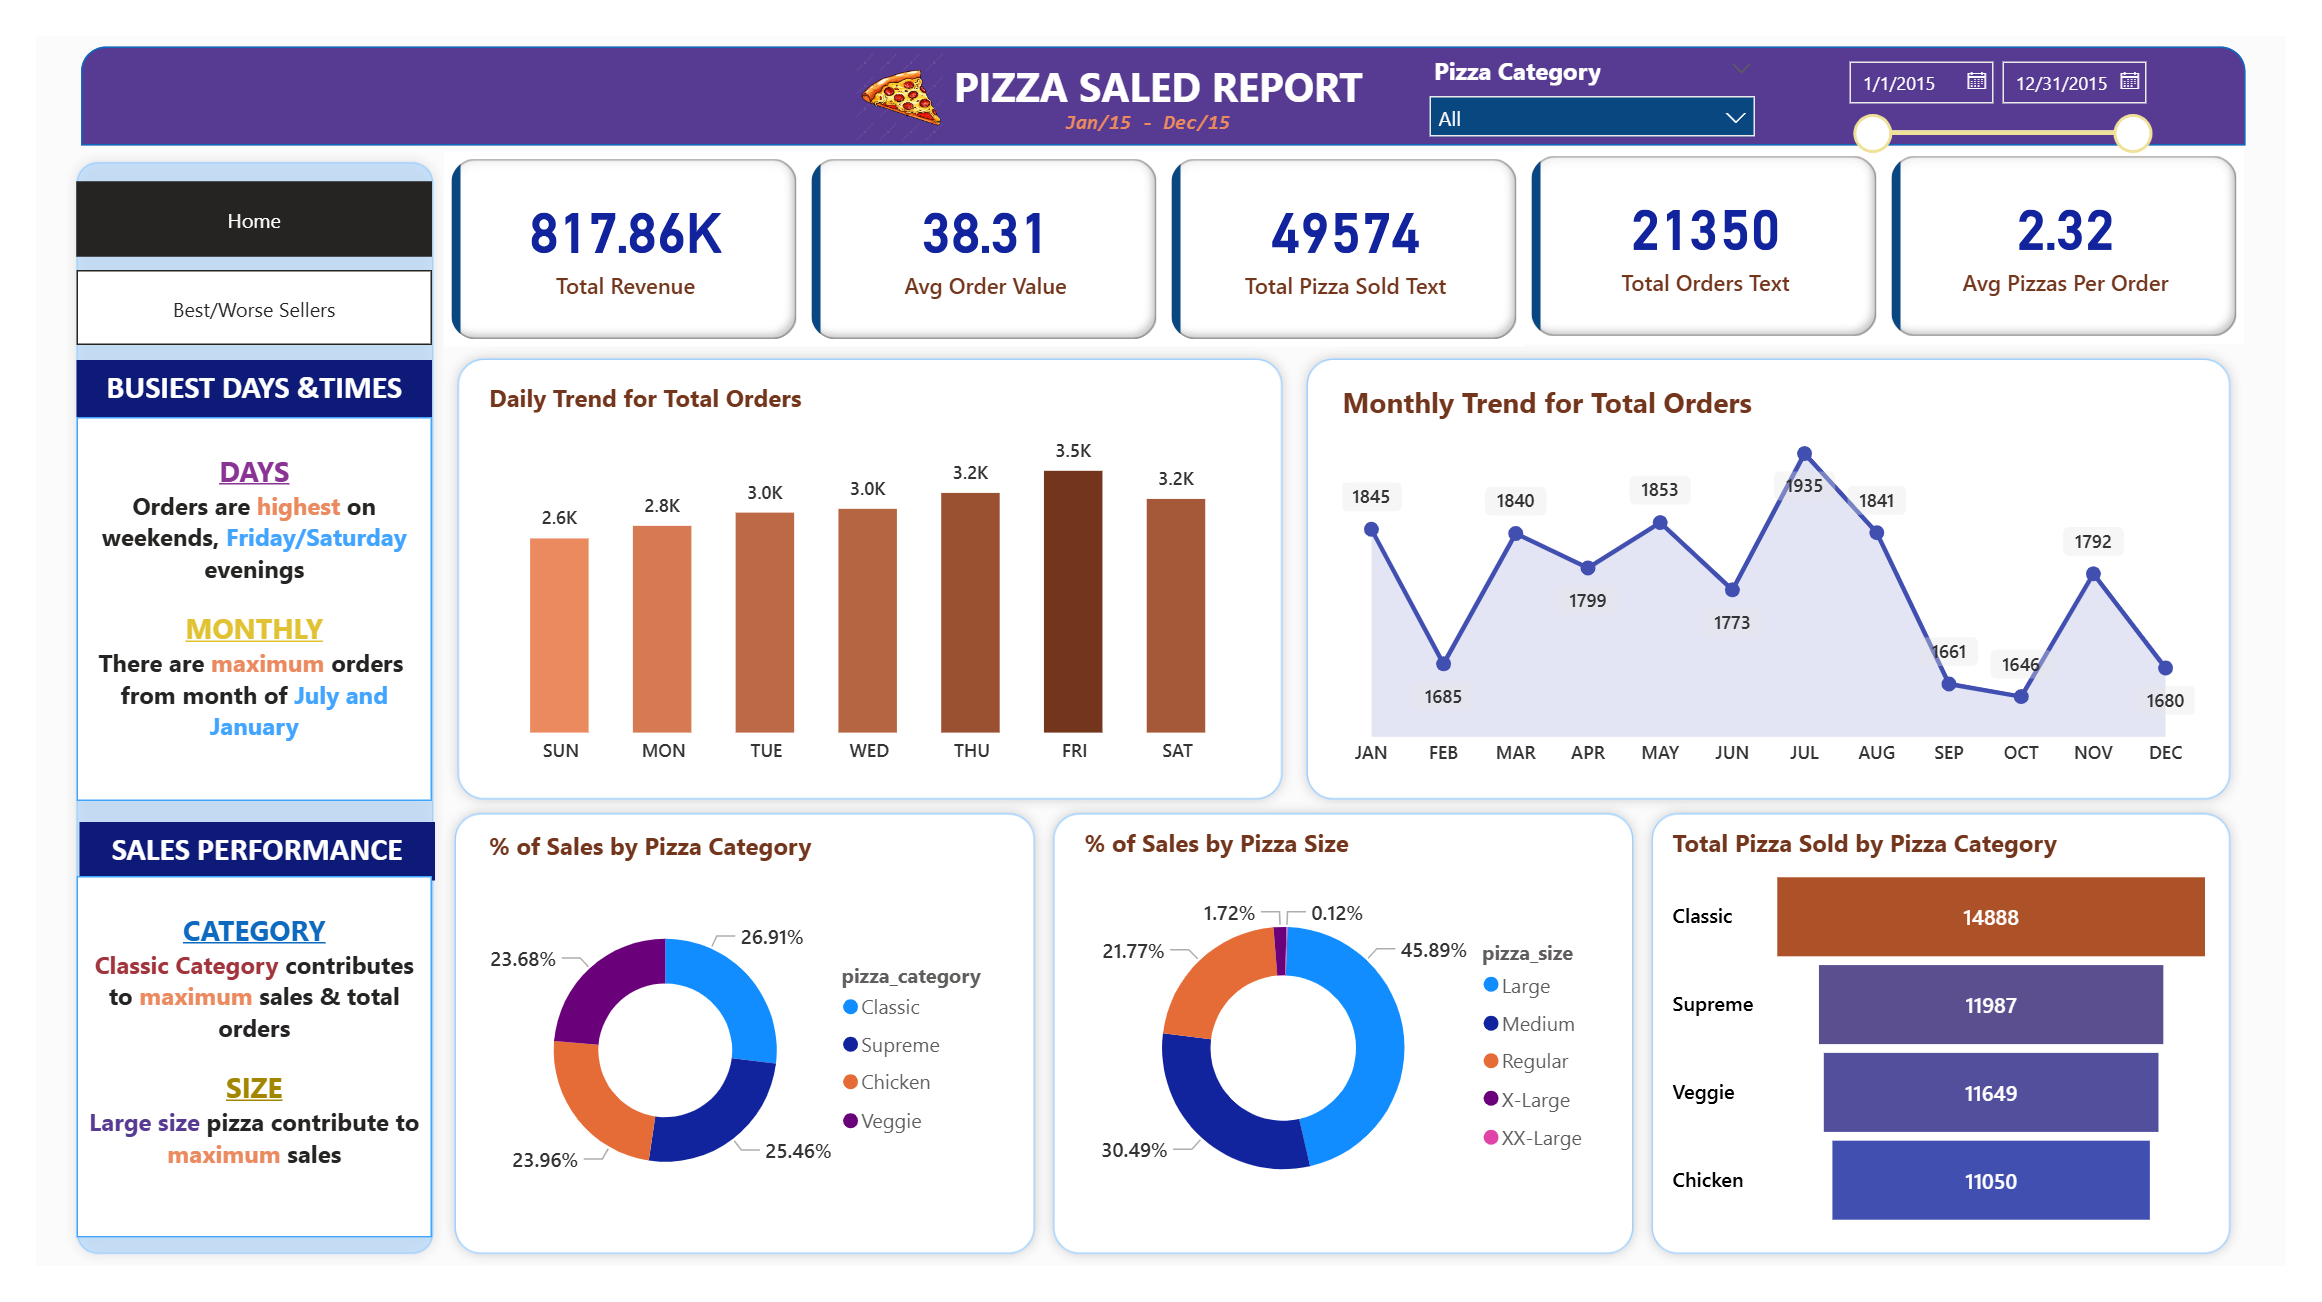

This screenshot's page, from the dashboard's own definition file:
{"tool":"powerbi","page":{"name":"Home","canvas":[1500,820],"ordinal":0},"visuals":[{"type":"cardVisual","fields":{"Data":["pizza_sales.Total Revenue"]},"box":[271.7,76.6,240,130],"z":0},{"type":"cardVisual","fields":{"Data":["pizza_sales.Total Pizza Sold Text"]},"box":[751.7,76.6,240,130],"z":1000},{"type":"cardVisual","fields":{"Data":["pizza_sales.Avg Pizzas Per Order"]},"box":[1231.7,75.1,240,130],"z":2000},{"type":"cardVisual","fields":{"Data":["pizza_sales.Avg Order Value"]},"box":[511.7,76.6,240,130],"z":3000},{"type":"cardVisual","fields":{"Data":["pizza_sales.Total Orders Text"]},"box":[991.7,75.1,240,130],"z":4000},{"type":"shape","box":[30,7.1,1442.9,65.7],"z":5000},{"type":"textbox","box":[607.1,10,287.1,50],"z":6000},{"type":"textbox","box":[681.4,42.9,135.7,32.9],"z":7000},{"type":"image","box":[540,4.3,74.3,75.7],"z":8000},{"type":"shape","box":[272.9,207.1,565.7,310],"z":9000},{"type":"columnChart","title":"Daily Trend for Total Orders","fields":{"Category":["pizza_sales.Order Day"],"Y":["pizza_sales.Total Orders"]},"box":[297.1,230,517.1,264.3],"z":10000},{"type":"shape","box":[838.6,207.1,632.9,310],"z":12000},{"type":"areaChart","title":"Monthly Trend for Total Orders","fields":{"Y":["pizza_sales.Total Orders"],"Category":["pizza_sales.Order Month"]},"box":[865.7,231.4,578.6,264.3],"z":13000},{"type":"shape","box":[271.4,510,402.9,310],"z":14000},{"type":"shape","box":[670,510,402.9,310],"z":15000},{"type":"shape","box":[18.6,75.7,254.3,744.3],"z":16000},{"type":"shape","box":[1068.6,510,402.9,310],"z":17000},{"type":"textbox","box":[27.1,215.7,237.1,38.6],"z":18000},{"type":"donutChart","title":"% of Sales by Pizza Category","fields":{"Category":["pizza_sales.pizza_category"],"Y":["pizza_sales.Total Revenue"]},"box":[297.1,528.6,354.3,272.9],"z":19000},{"type":"donutChart","title":"% of Sales by Pizza Size","fields":{"Y":["pizza_sales.Total Revenue"],"Category":["pizza_sales.pizza_size"]},"box":[694.3,527.1,354.3,272.9],"z":20000},{"type":"funnel","title":"Total Pizza Sold by Pizza Category","fields":{"Category":["pizza_sales.pizza_category"],"Y":["pizza_sales.Total Pizza Sold"]},"box":[1085.7,527.1,370,272.9],"z":21000},{"type":"textbox","box":[27.1,254.3,237.1,255.7],"z":22000},{"type":"textbox","box":[28.6,524.3,237.1,38.6],"z":23000},{"type":"textbox","box":[27.1,560,237.1,241.4],"z":24000},{"type":"slicer","fields":{"Values":["pizza_sales.pizza_category"]},"box":[918.6,7.1,237.1,60],"z":25000},{"type":"slicer","fields":{"Values":["pizza_sales.order_date"]},"box":[1195.7,7.1,222.9,85.7],"z":26000},{"type":"pageNavigator","box":[27.1,97.1,237.1,50],"z":27000},{"type":"pageNavigator","box":[27.1,155.7,237.1,50],"z":28000}]}

Visuals, with their boxes in screenshot pixels (x1, y1, x2, y2), scaled from the page's 1500x820 canvas onto the 2322x1302 screenshot:
cardVisual - pizza_sales.Total Revenue: bbox=[421, 122, 792, 328]
cardVisual - pizza_sales.Total Pizza Sold Text: bbox=[1164, 122, 1535, 328]
cardVisual - pizza_sales.Avg Pizzas Per Order: bbox=[1907, 119, 2278, 326]
cardVisual - pizza_sales.Avg Order Value: bbox=[792, 122, 1164, 328]
cardVisual - pizza_sales.Total Orders Text: bbox=[1535, 119, 1907, 326]
shape: bbox=[46, 11, 2280, 116]
textbox: bbox=[940, 16, 1384, 95]
textbox: bbox=[1055, 68, 1265, 120]
image: bbox=[836, 7, 951, 127]
shape: bbox=[422, 329, 1298, 821]
"Daily Trend for Total Orders" columnChart: bbox=[460, 365, 1260, 785]
shape: bbox=[1298, 329, 2278, 821]
"Monthly Trend for Total Orders" areaChart: bbox=[1340, 367, 2236, 787]
shape: bbox=[420, 810, 1044, 1301]
shape: bbox=[1037, 810, 1661, 1301]
shape: bbox=[29, 120, 422, 1301]
shape: bbox=[1654, 810, 2278, 1301]
textbox: bbox=[42, 342, 409, 404]
"% of Sales by Pizza Category" donutChart: bbox=[460, 839, 1008, 1273]
"% of Sales by Pizza Size" donutChart: bbox=[1075, 837, 1623, 1270]
"Total Pizza Sold by Pizza Category" funnel: bbox=[1681, 837, 2253, 1270]
textbox: bbox=[42, 404, 409, 810]
textbox: bbox=[44, 832, 411, 894]
textbox: bbox=[42, 889, 409, 1272]
slicer - pizza_sales.pizza_category: bbox=[1422, 11, 1789, 107]
slicer - pizza_sales.order_date: bbox=[1851, 11, 2196, 147]
pageNavigator: bbox=[42, 154, 409, 234]
pageNavigator: bbox=[42, 247, 409, 327]
